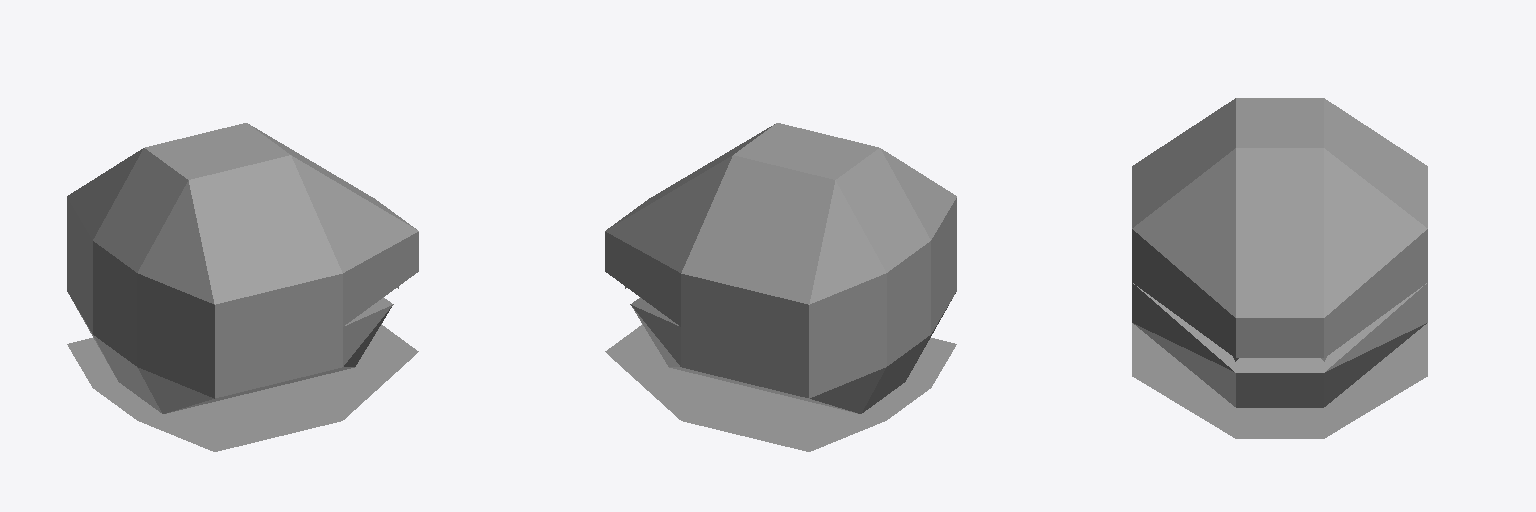
File: snake-head.obj
3 renders of one model, left to right at view 1: azimuth 30°, elevation 25°; view 2: azimuth 150°, elevation 25°; view 3: azimuth 270°, elevation 25°, orthographic.
Visible parts, largest first — view 1: Cube; view 2: Cube; view 3: Cube.
Part boxes in pixels (left/top/right/bottom): Cube: left=67, top=123, right=418, bottom=451; Cube: left=605, top=123, right=956, bottom=451; Cube: left=1132, top=98, right=1427, bottom=438.
Size of the model in its own units: 2.2 by 1.7 by 2.